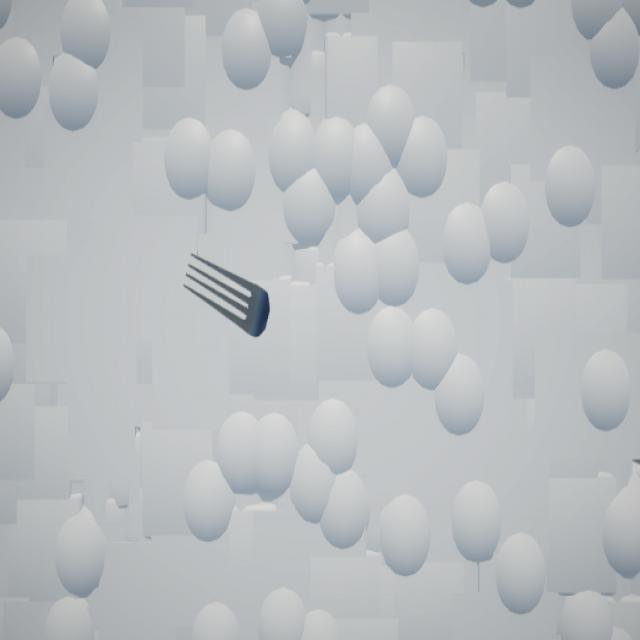top_folk: (184, 254, 272, 340)
